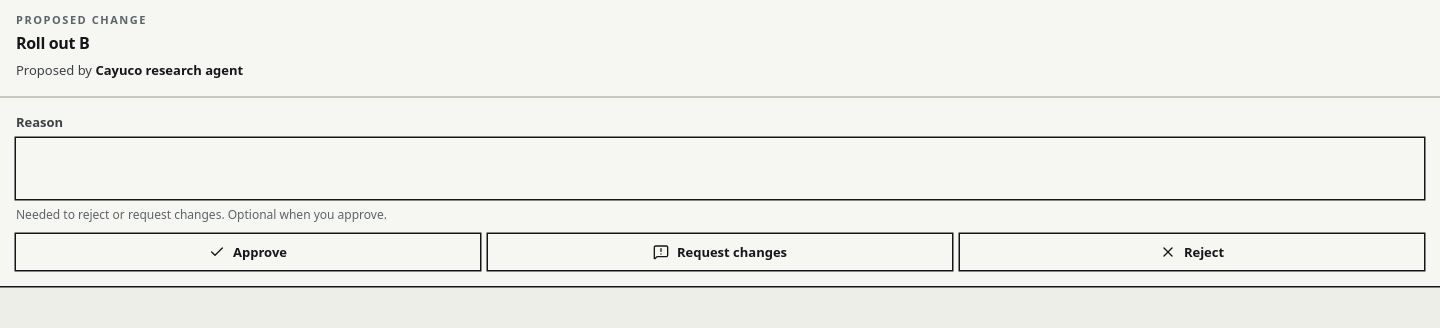
Test: ChangeReview › Reject without a reason states the error, focuses the field and does not decide
Click the button "Reject": (1192, 252) [960,234,1424,270]
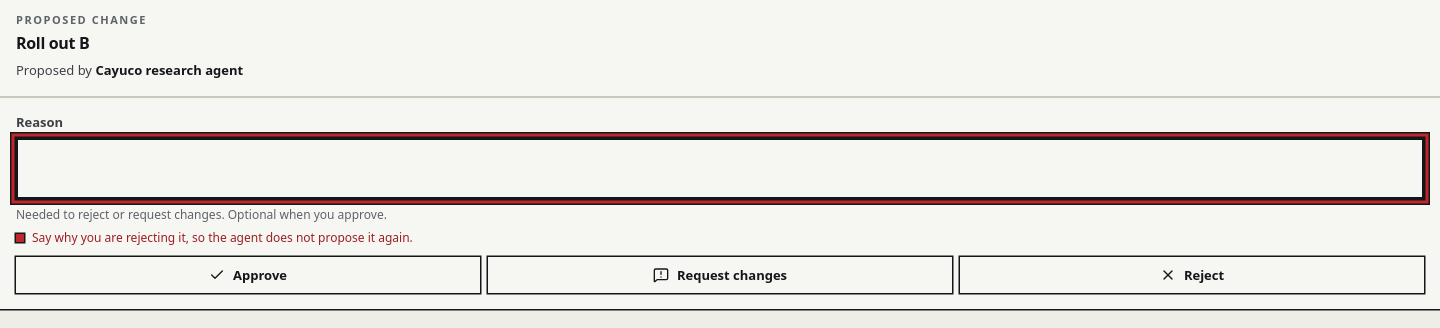
Expected: the message shows "Say why you are rejecting it", [32,229,413,246]
